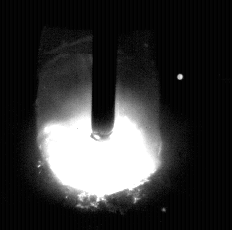arame: (91, 0, 117, 141)
poca: (36, 0, 163, 230)
